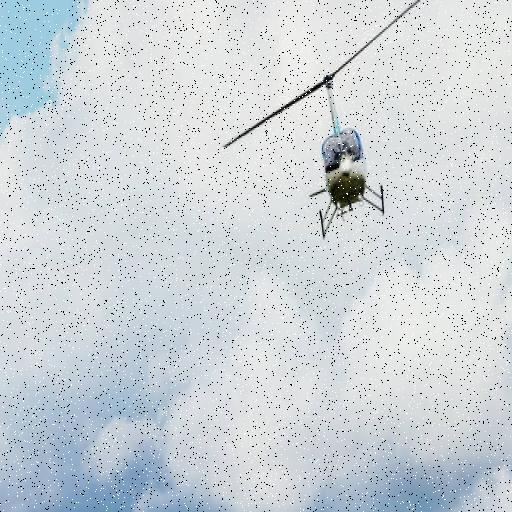helicopter: (223, 1, 441, 235)
